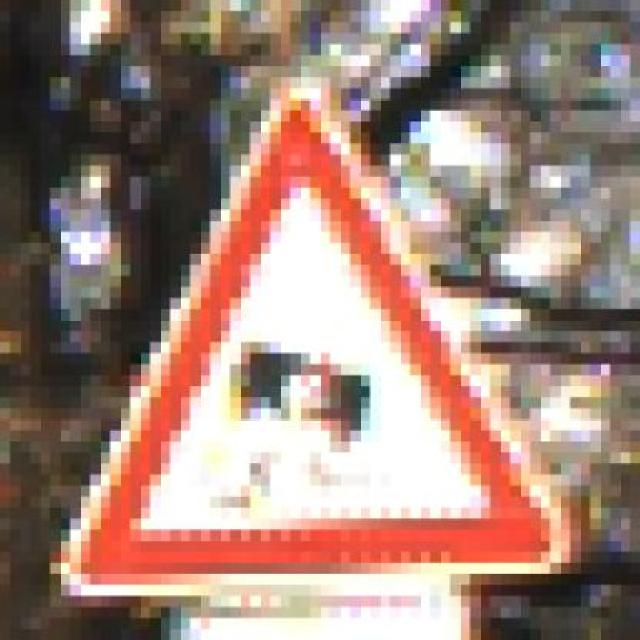Slippery Road Ahead: (50, 99, 581, 596)
